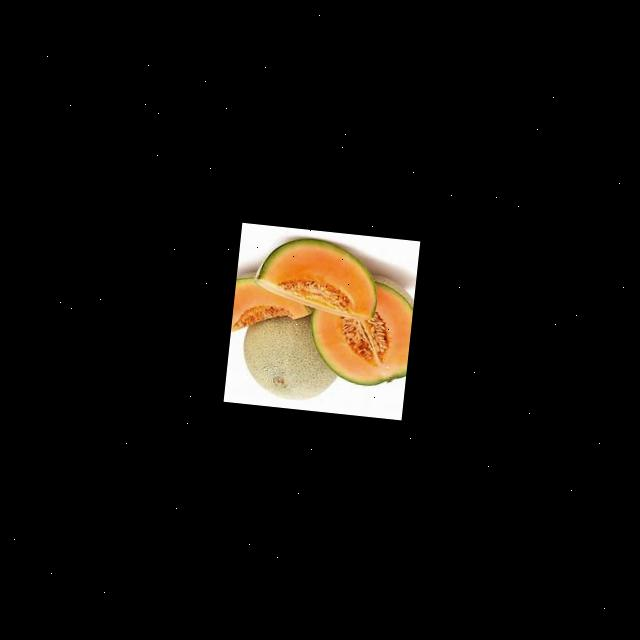Hami Melon: (304, 269, 414, 389), (250, 230, 380, 320), (229, 274, 311, 336)
